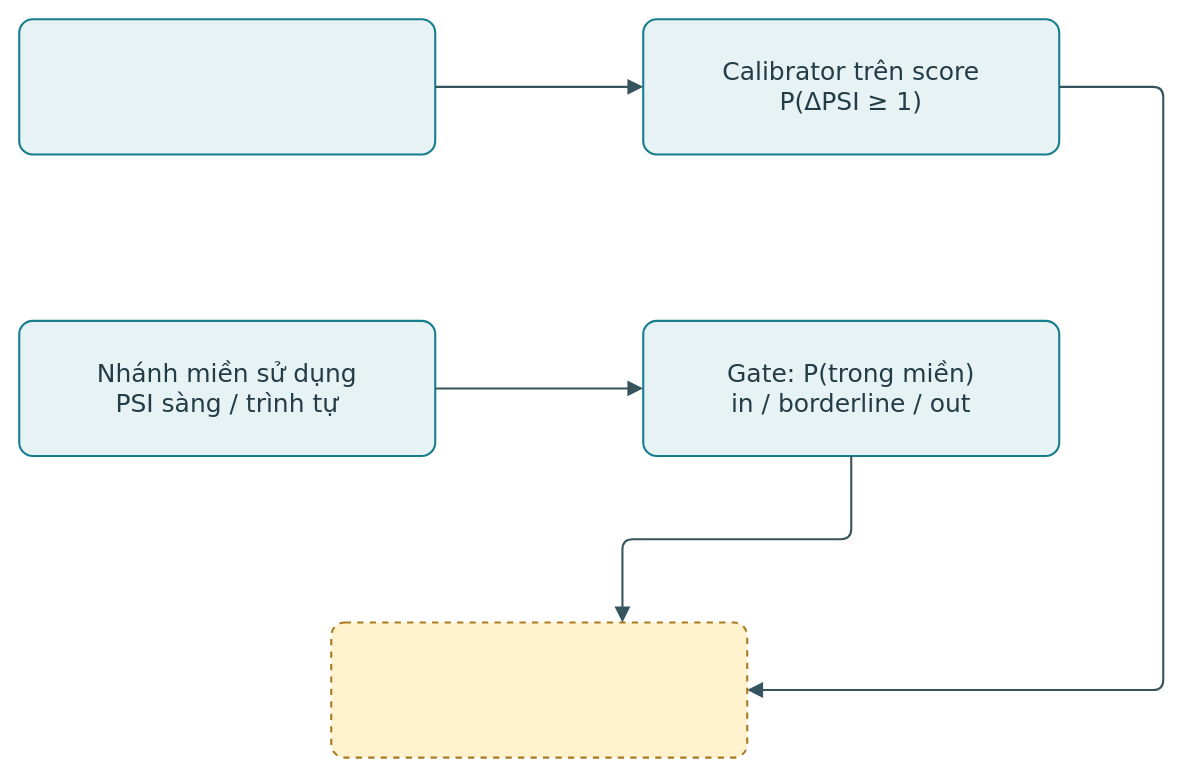
The diagram is 1194 pixels wide and 776 high, and some of its shapes have lost their labels. Here are the shapes that lost their labels. From the top down, the centre of each, then its label:
At pixel 227 86: "Nhánh hiệu ứng model → score ΔPSI".
At pixel 539 689: "Kết quả cần cả hai score/prob + domain + nguồn".
